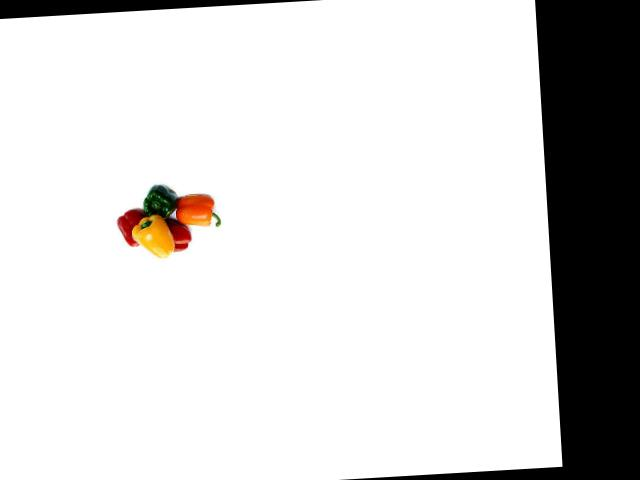bell_pepper: (134, 178, 180, 229)
